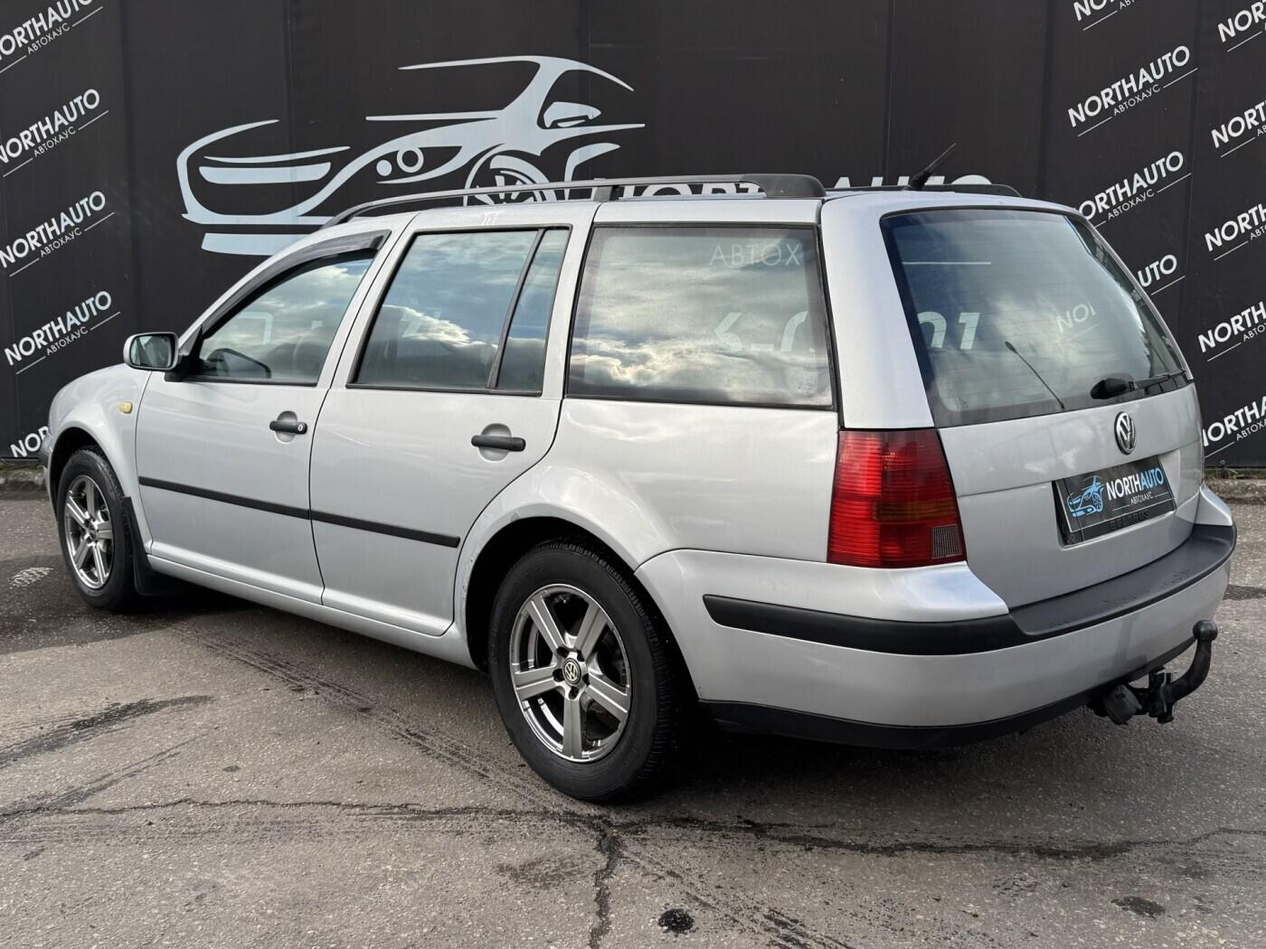Golf_1997-2006: (27, 187, 1244, 801)
